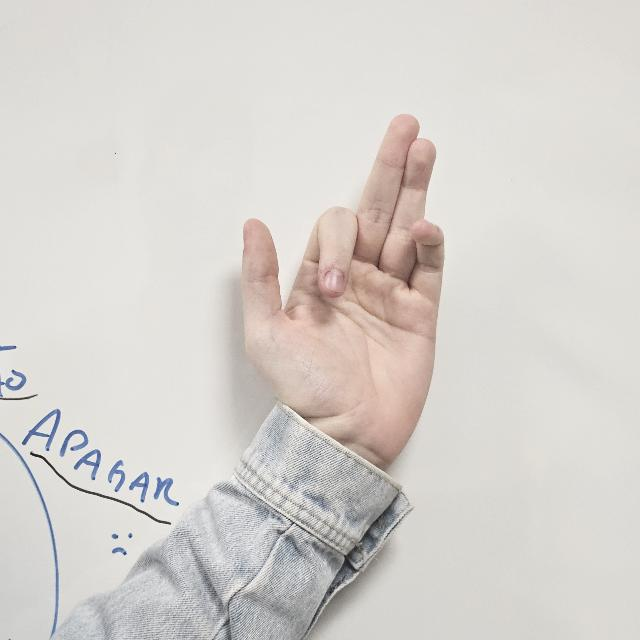R: (241, 111, 443, 486)
